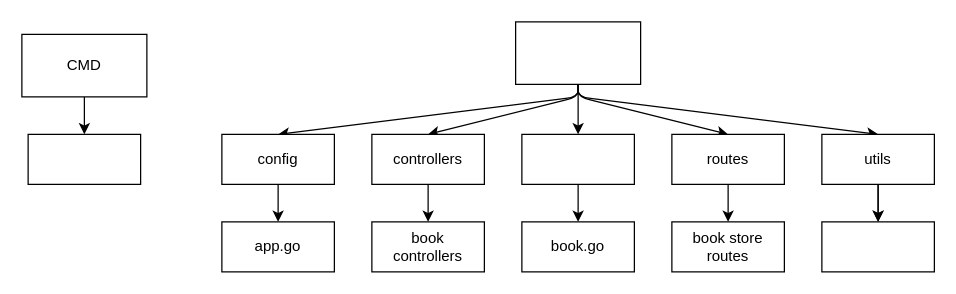
Image size: 956x294. Some labels were removed from this diagram. Each missing label, with the centre of its shape:
main.go: the point at 84,158
models: the point at 577,158
PKG: the point at 577,52
utils.go: the point at 877,246
